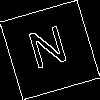N: (25, 24, 73, 79)
